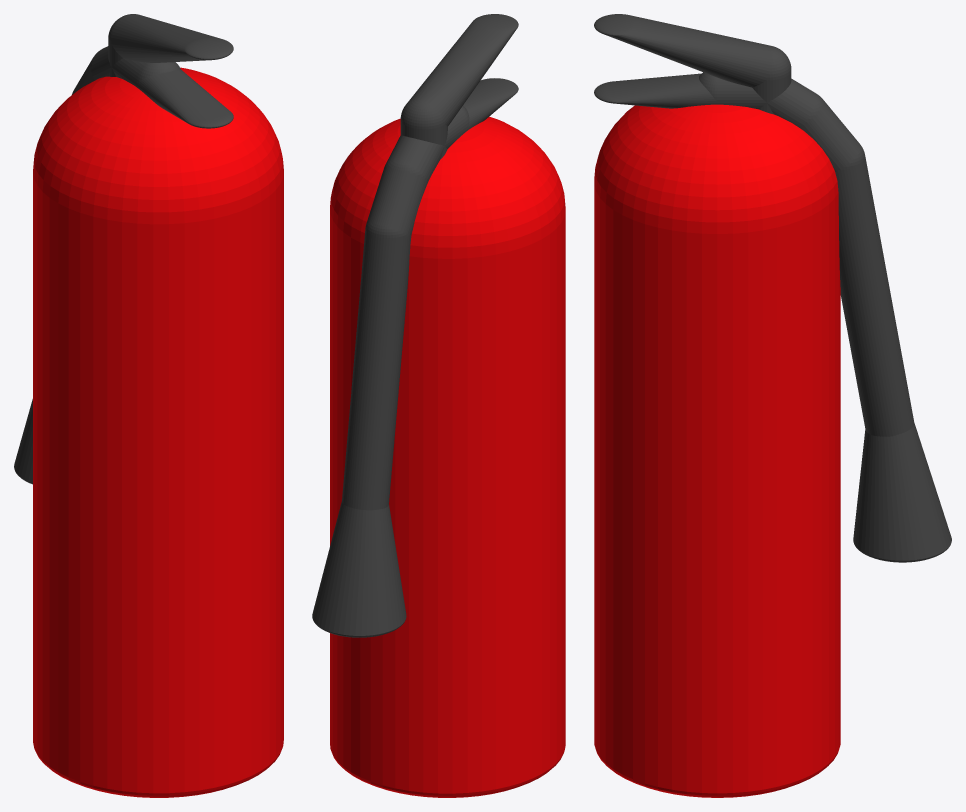
File: extincteur.glb
The picture shows the model from 3 angles, left to right: view 1: azimuth 30°, elevation 25°; view 2: azimuth 150°, elevation 25°; view 3: azimuth 270°, elevation 25°; orthographic projection. The views are drawn at different scales.
Bounding box in the file's own units: 0.1 × 0.332 × 0.1449.
2 materials, 2 textured.
